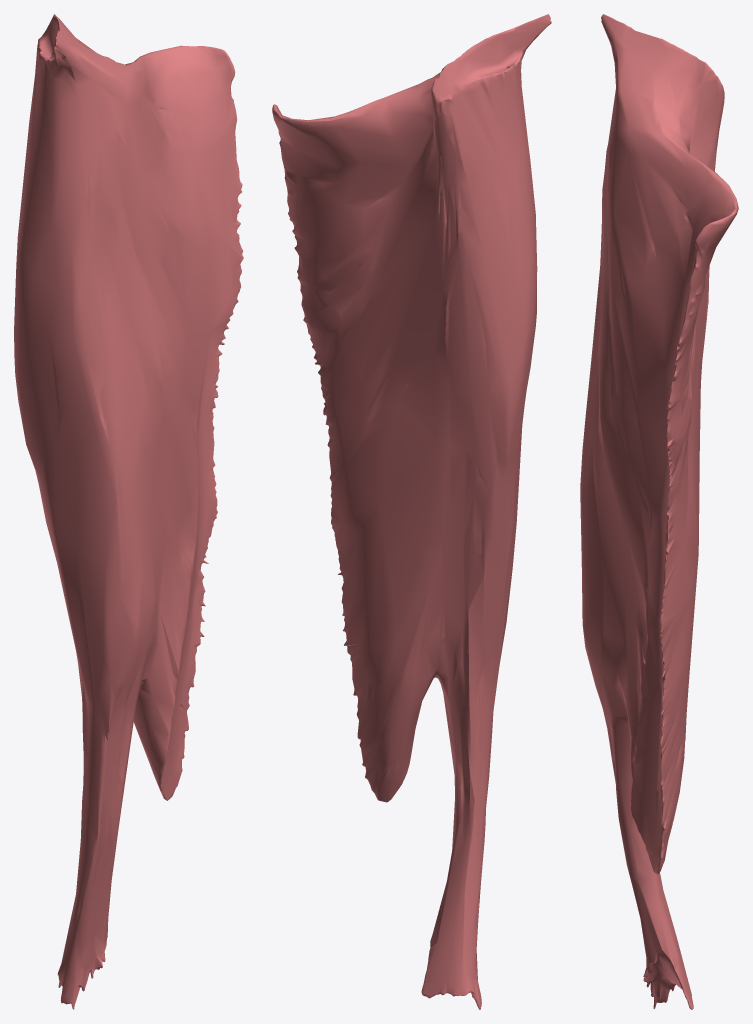
The picture shows the model from 3 angles, left to right: view 1: azimuth 30°, elevation 25°; view 2: azimuth 150°, elevation 25°; view 3: azimuth 270°, elevation 25°; orthographic projection. The views are drawn at different scales.
Parts seen in each view (by area): view 1: FJ1403M; view 2: FJ1403M; view 3: FJ1403M.
Part boxes in pixels (x1,y1,x2,y2): FJ1403M: (14,14,243,1009); FJ1403M: (272,14,551,1009); FJ1403M: (580,14,738,1009).
Bounding box in the file's own units: 0.098 × 0.3953 × 0.0583.
